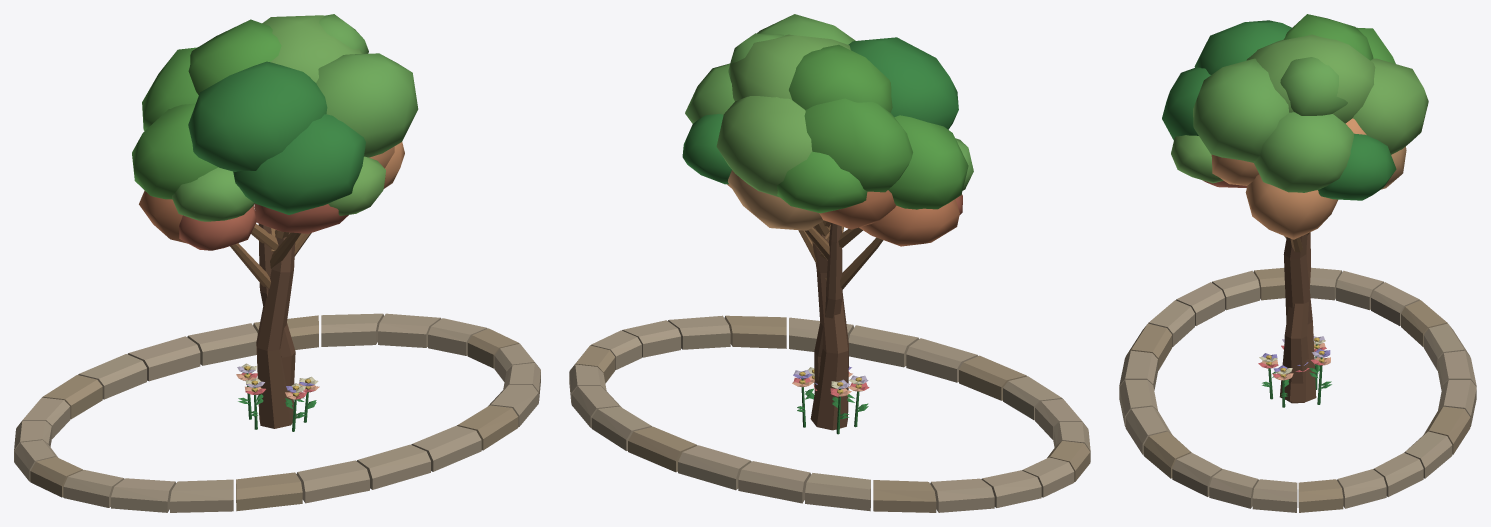
The model's file is botanical-kit.glb.
3 renders of one model, left to right at view 1: azimuth 30°, elevation 25°; view 2: azimuth 150°, elevation 25°; view 3: azimuth 270°, elevation 25°, orthographic. The views are drawn at different scales.
Visible parts, largest first — view 1: tree-broadleaf, pond-basin, tree-copper, flowers-coral, flowers-lilac; view 2: tree-broadleaf, pond-basin, tree-copper, flowers-coral, flowers-lilac; view 3: tree-broadleaf, pond-basin, tree-copper, flowers-coral, flowers-lilac.
Boxes of the visible parts, x1=… form: tree-broadleaf: x1=132, y1=14, x2=418, y2=428; pond-basin: x1=14, y1=313, x2=540, y2=512; tree-copper: x1=139, y1=142, x2=404, y2=399; flowers-coral: x1=236, y1=373, x2=319, y2=431; flowers-lilac: x1=237, y1=363, x2=318, y2=431; tree-broadleaf: x1=682, y1=14, x2=973, y2=430; pond-basin: x1=569, y1=315, x2=1090, y2=512; tree-copper: x1=727, y1=170, x2=962, y2=392; flowers-coral: x1=792, y1=371, x2=869, y2=433; flowers-lilac: x1=793, y1=366, x2=868, y2=434; tree-broadleaf: x1=1162, y1=14, x2=1428, y2=401; pond-basin: x1=1119, y1=267, x2=1476, y2=512; tree-copper: x1=1202, y1=118, x2=1406, y2=403; flowers-coral: x1=1258, y1=343, x2=1331, y2=407; flowers-lilac: x1=1259, y1=336, x2=1331, y2=407.
Bounding box in the file's own units: 6.4 × 4.8 × 4.2.
